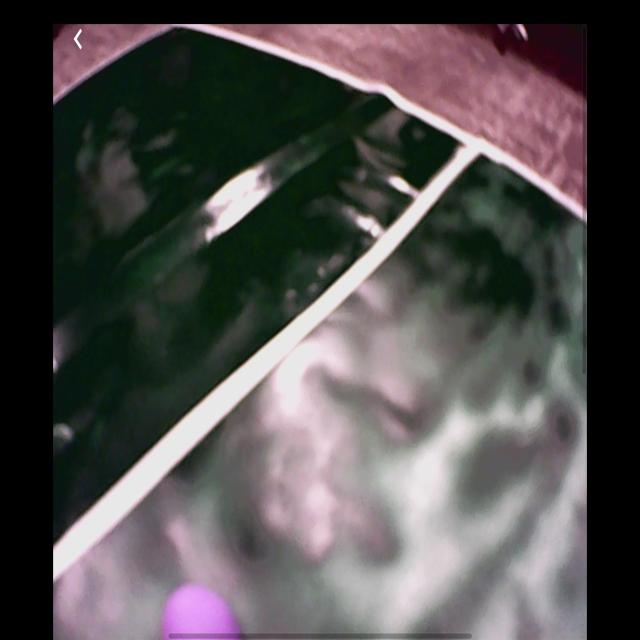ball: (161, 582, 243, 639)
